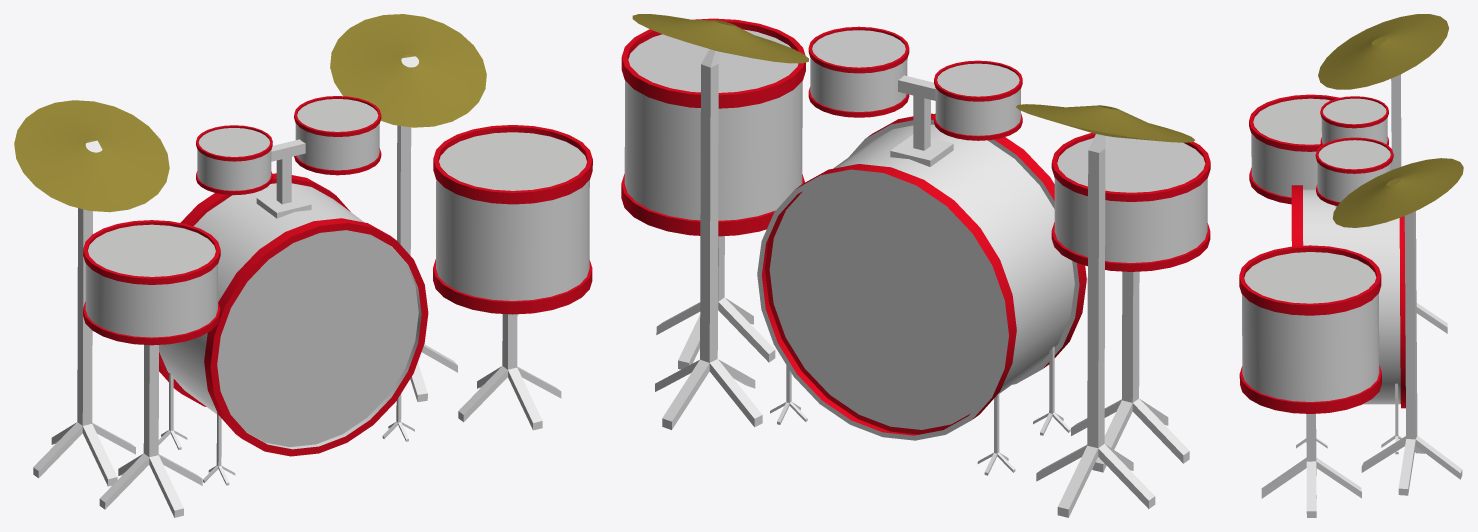
File: Musica_Bateria.fbx
3 views of the same model, side by side, from view 1: azimuth 30°, elevation 25°; view 2: azimuth 150°, elevation 25°; view 3: azimuth 270°, elevation 25° (orthographic). The views are drawn at different scales.
Parts seen in each view (by area): view 1: Musica_Bateria; view 2: Musica_Bateria; view 3: Musica_Bateria.
Part boxes in pixels (<box>): Musica_Bateria: <box>14,14,592,517</box>; Musica_Bateria: <box>621,14,1210,517</box>; Musica_Bateria: <box>1239,14,1463,517</box>.
Size of the model in its own units: 1177 by 743 by 496.
4 materials, 1 textured.
